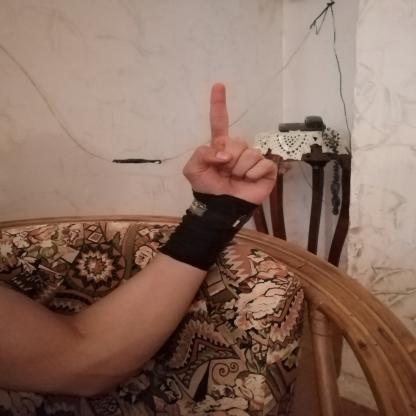BAA: (168, 78, 290, 214)
